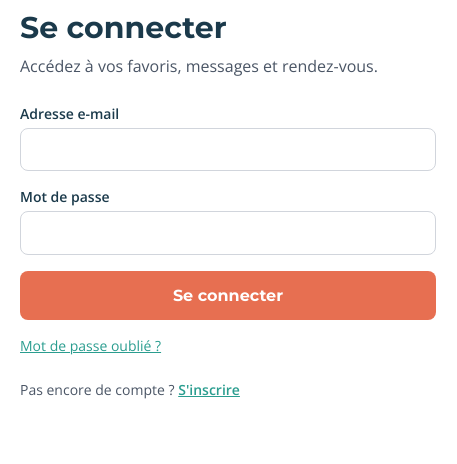
it: Connexion (cas M9) et second facteur › exige e-mail et mot de passe
Click the button "Se connecter".
click(228, 296)  # box [20,271,436,320]
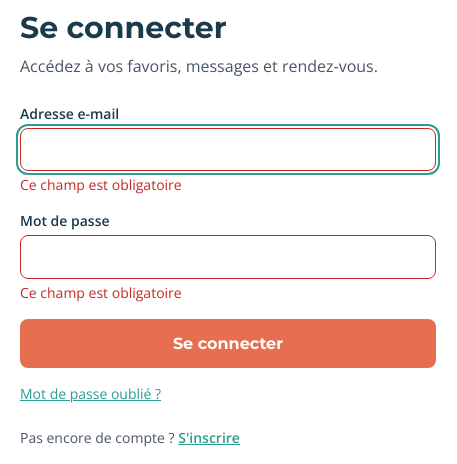
Now the number of messages is 2, box [20,175,182,194]; [20,283,182,302]
